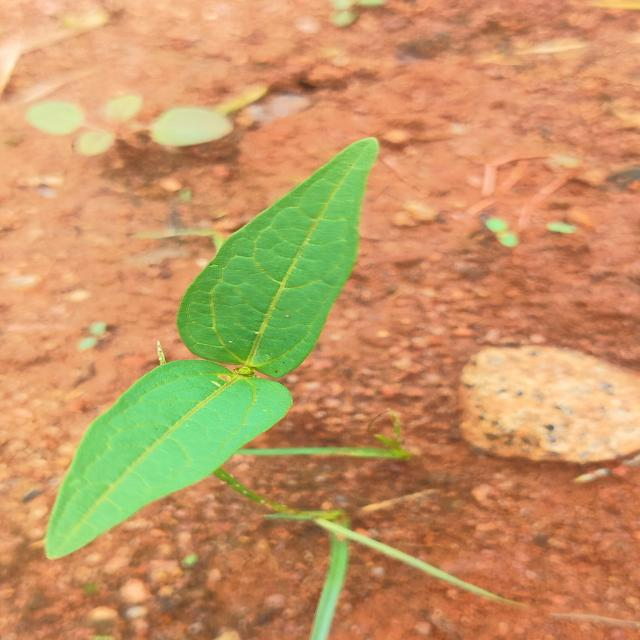Black gram_healthy: (181, 132, 395, 372), (46, 364, 295, 562)
